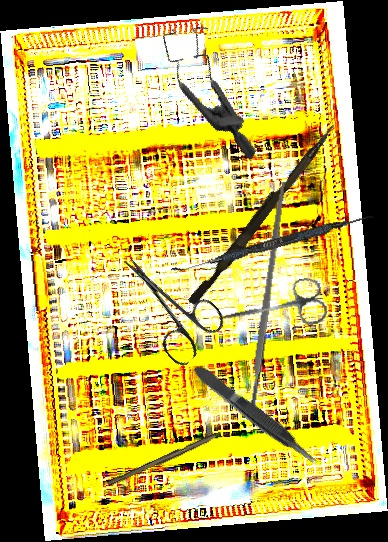Iris Scissors: (100, 236, 232, 370), (212, 275, 330, 344)
Pusher: (187, 117, 338, 310)
Scalpel Handle: (245, 181, 289, 413), (106, 431, 218, 490)
Spatula Surgical: (170, 207, 375, 281)
Speculum: (131, 11, 297, 160)
Tissue Forceps: (190, 359, 322, 472)
